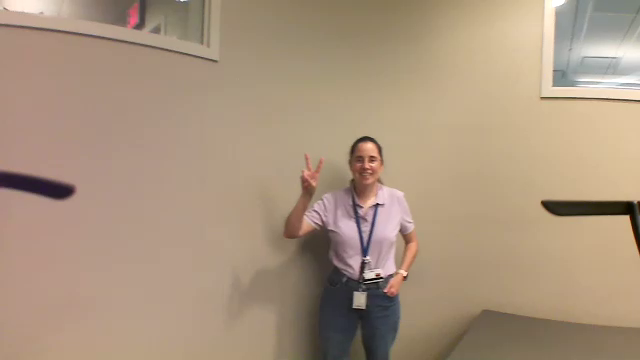peace: (294, 152, 328, 193)
